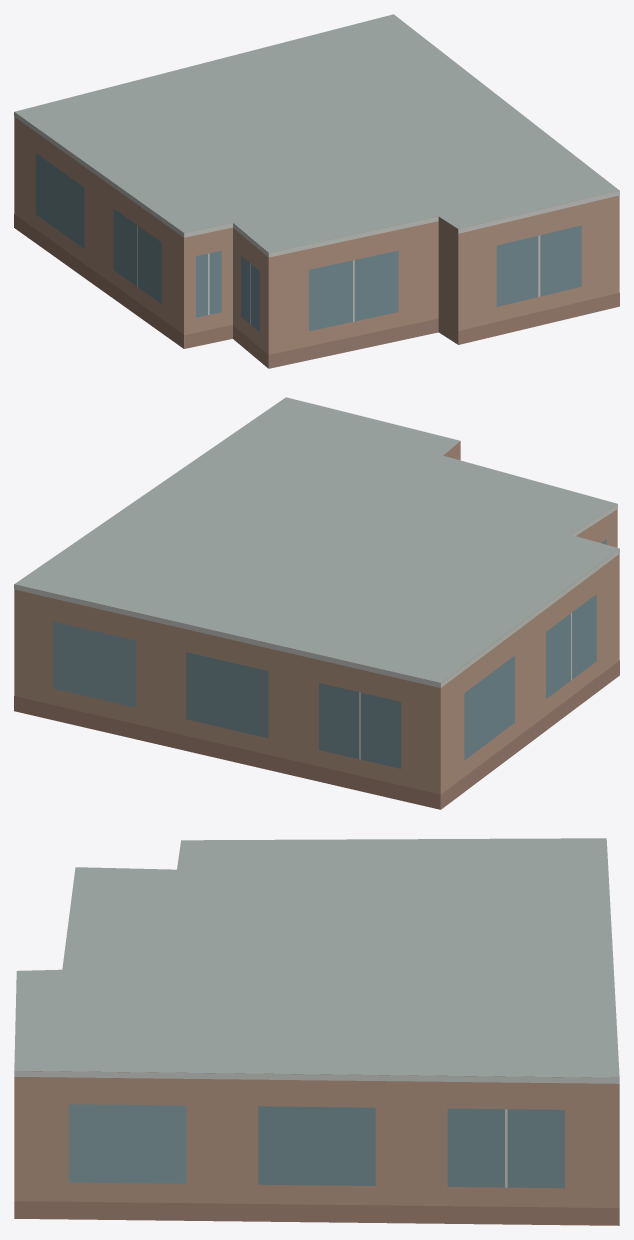
Rendered from survey-upis-32791116.glb.
3 views of the same model, one above another, from view 1: azimuth 30°, elevation 25°; view 2: azimuth 150°, elevation 25°; view 3: azimuth 270°, elevation 25° (orthographic). The views are drawn at different scales.
Parts seen in each view (by area): view 1: survey-upis-32791116.tmp; view 2: survey-upis-32791116.tmp; view 3: survey-upis-32791116.tmp.
Boxes of the visible parts, <box> form: survey-upis-32791116.tmp: <box>14,14,619,368</box>; survey-upis-32791116.tmp: <box>14,397,619,809</box>; survey-upis-32791116.tmp: <box>14,838,619,1225</box>.
Bounding box in the file's own units: 10.6 × 3.05 × 11.33.
